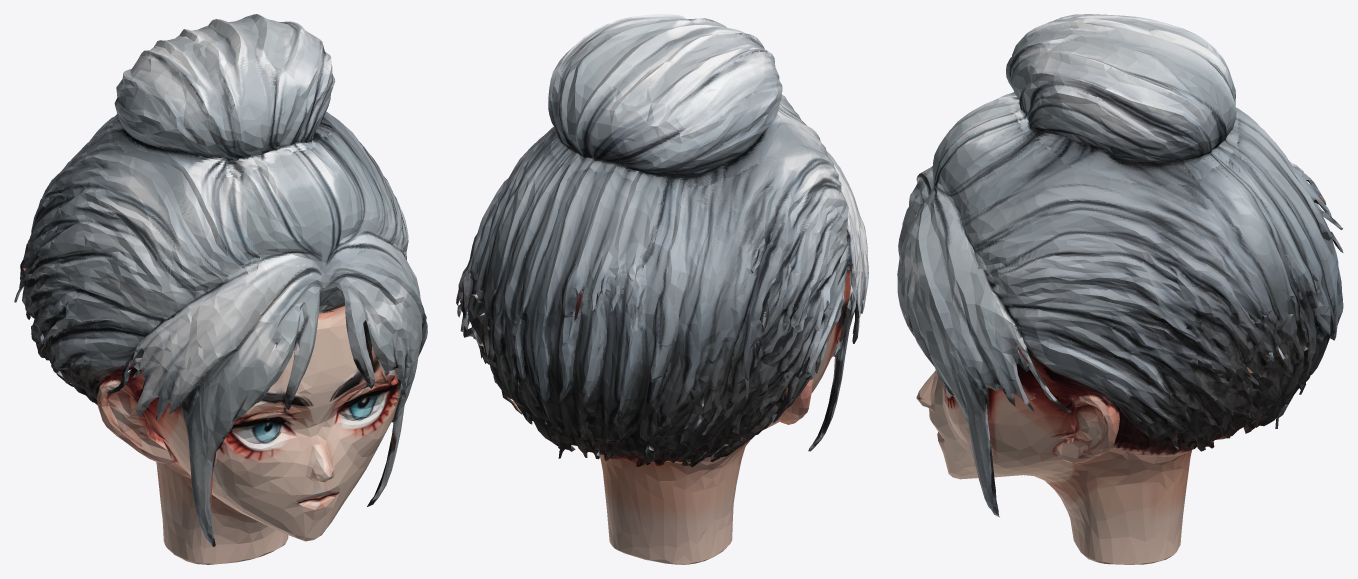
Rendered from side_sanae_repaired_atlas.glb.
3 renders of one model, left to right at view 1: azimuth 30°, elevation 25°; view 2: azimuth 150°, elevation 25°; view 3: azimuth 270°, elevation 25°, orthographic. The views are drawn at different scales.
Parts seen in each view (by area): view 1: temp_mesh.ply; view 2: temp_mesh.ply; view 3: temp_mesh.ply.
Part boxes in pixels (x1=…): temp_mesh.ply: x1=14, y1=14, x2=427, y2=564; temp_mesh.ply: x1=456, y1=14, x2=868, y2=564; temp_mesh.ply: x1=897, y1=14, x2=1343, y2=564.
Size of the model in its own units: 1.11 by 1.65 by 1.29.
Materials: 1 (1 with a texture image).
